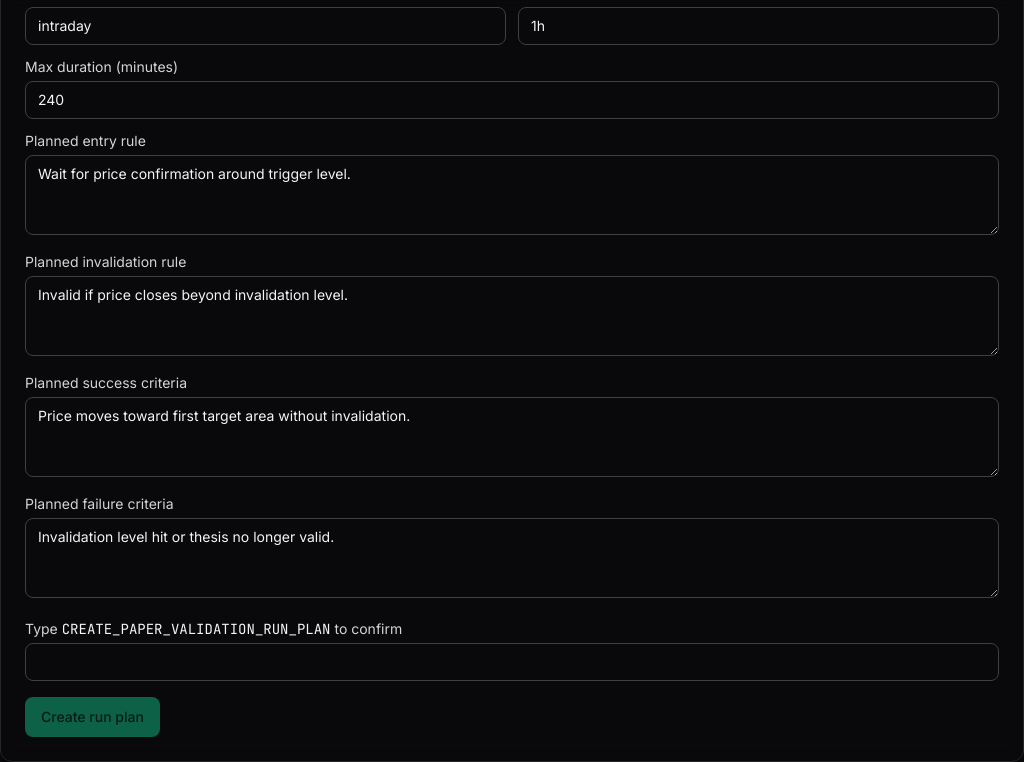
PaperValidationCandidateDetailPage Slice 81 › shows create plan section only for reviewing candidate with confirmation
(page scrolled)
expect the button with test id "paper-candidate-plan-submit" is disabled: met, box [25,697,160,737]
Type "CREATE_PAPER_VALIDATION_RUN_PLAN" into the field with test id "paper-candidate-plan-confirm".
click(512, 662); type("CREATE_PAPER_VALIDATION_RUN_PLAN")  # box [25,643,999,681]
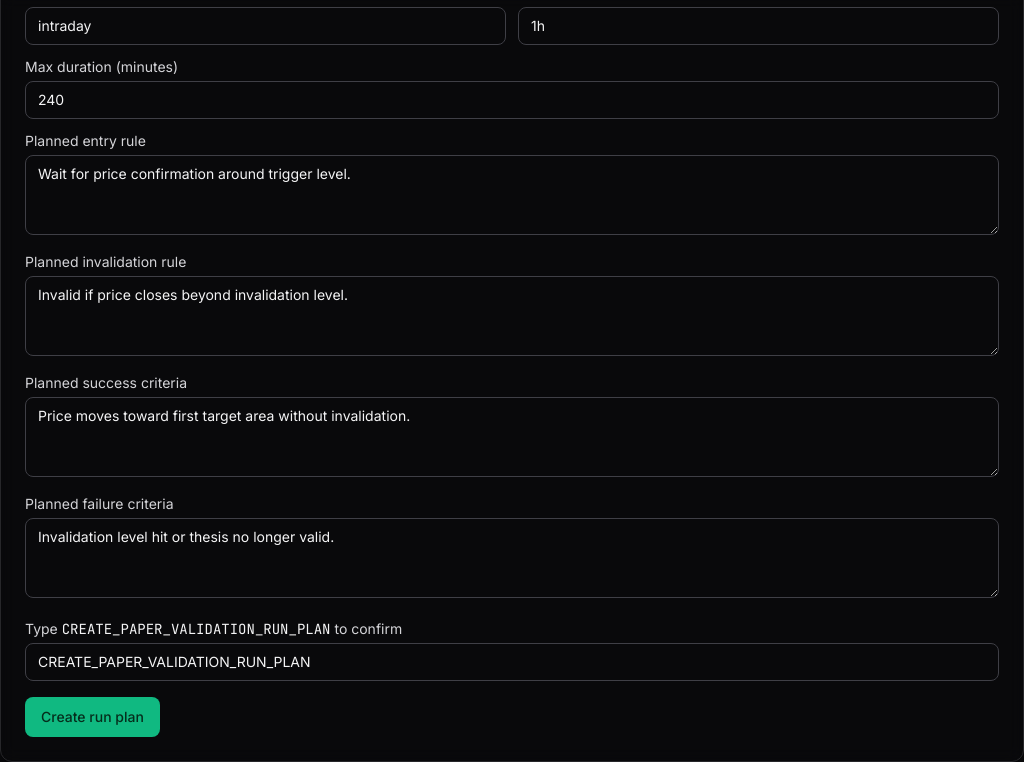
Click the button with test id "paper-candidate-plan-submit".
click(92, 717)  # box [25,697,160,737]
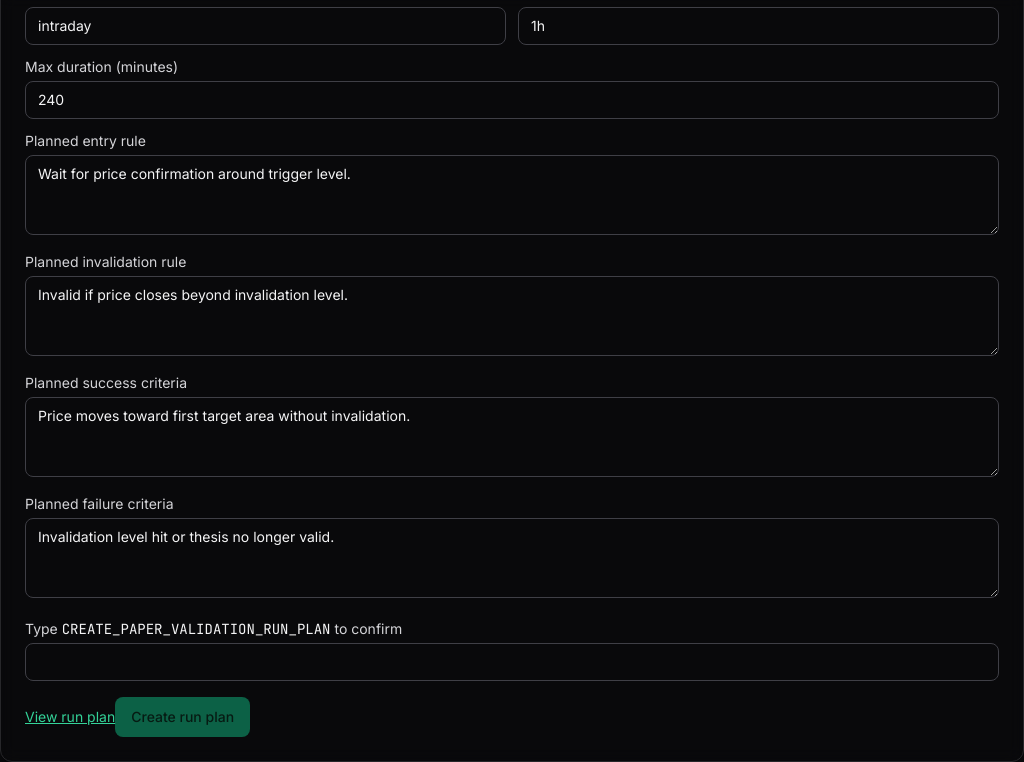
expect the link with test id "paper-candidate-plan-link" is shown: met, box [25,707,115,727]
